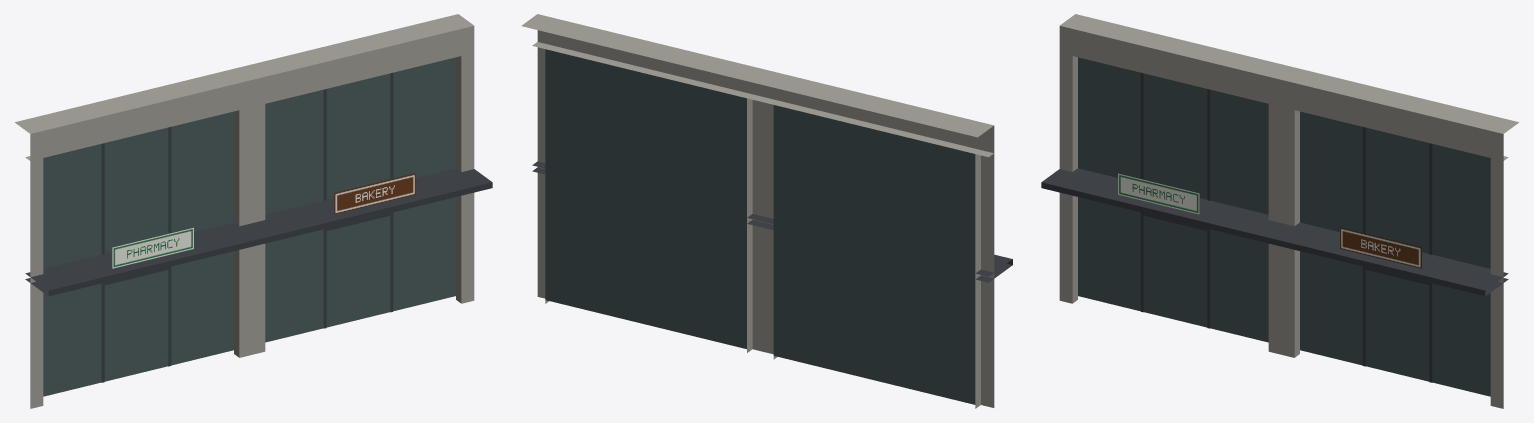
The picture shows the model from 3 angles, left to right: view 1: azimuth 30°, elevation 25°; view 2: azimuth 150°, elevation 25°; view 3: azimuth 330°, elevation 25°; orthographic projection. The views are drawn at different scales.
Parts seen in each view (by area): view 1: a2011/0/base-w3; view 2: a2011/0/base-w3; view 3: a2011/0/base-w3.
Boxes of the visible parts, x1,y1,x2,y2 form: a2011/0/base-w3: (15, 14, 492, 408); a2011/0/base-w3: (521, 14, 1012, 408); a2011/0/base-w3: (1041, 14, 1518, 408).
Bounding box in the file's own units: 12 × 7.1 × 1.6.
